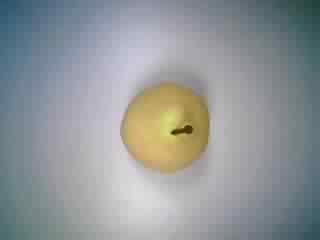pear: (110, 76, 219, 178)
